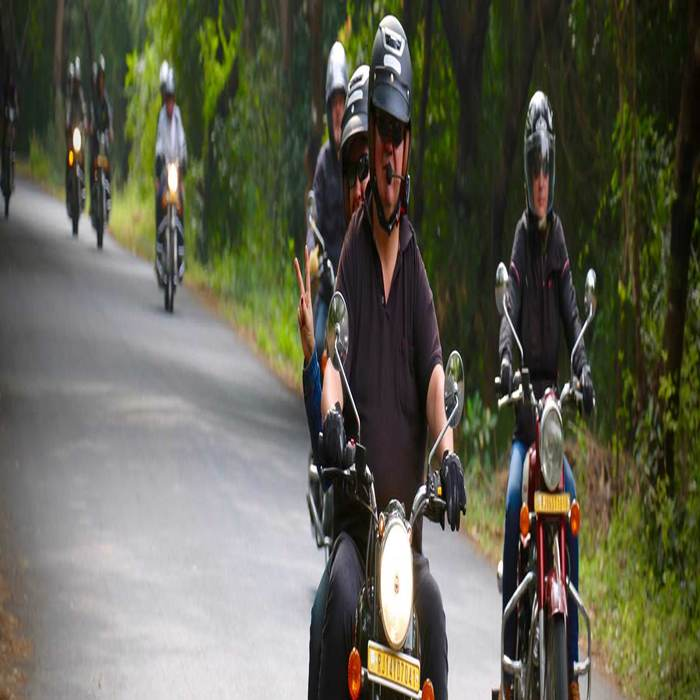h: (367, 14, 417, 149), (521, 88, 560, 222), (324, 38, 350, 110)
n: (365, 638, 423, 697), (531, 489, 571, 517)
